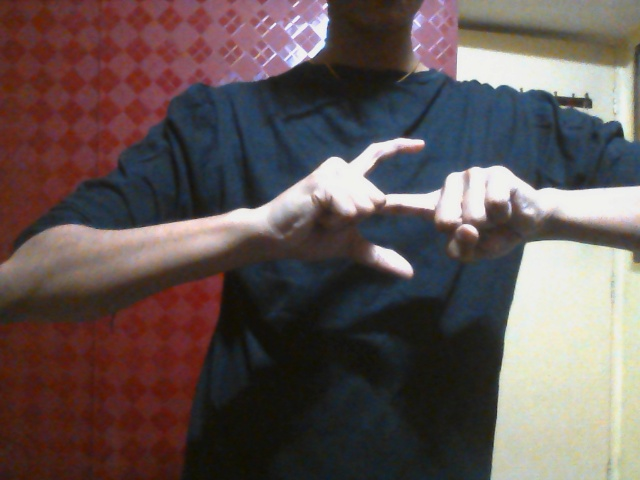E: (267, 131, 545, 295)
